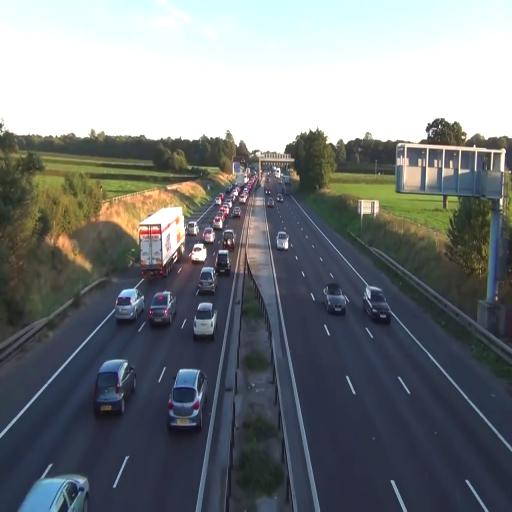vehicle: (16, 464, 90, 512), (139, 206, 185, 280), (139, 206, 185, 279), (168, 367, 208, 431), (93, 358, 137, 416), (115, 285, 145, 323), (362, 284, 390, 324), (148, 290, 176, 327), (193, 301, 218, 340), (324, 285, 348, 315), (198, 266, 217, 294), (216, 249, 230, 275), (190, 242, 207, 262), (276, 230, 290, 250)
